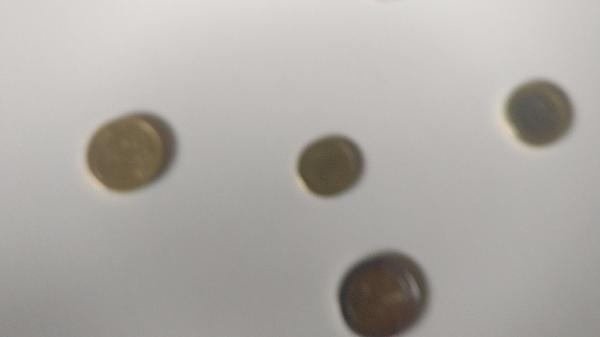Fifty Cent: (89, 118, 169, 197)
One Euro: (503, 80, 573, 147)
Ten Cent: (296, 136, 367, 199)
Two Euro: (337, 257, 427, 337)
